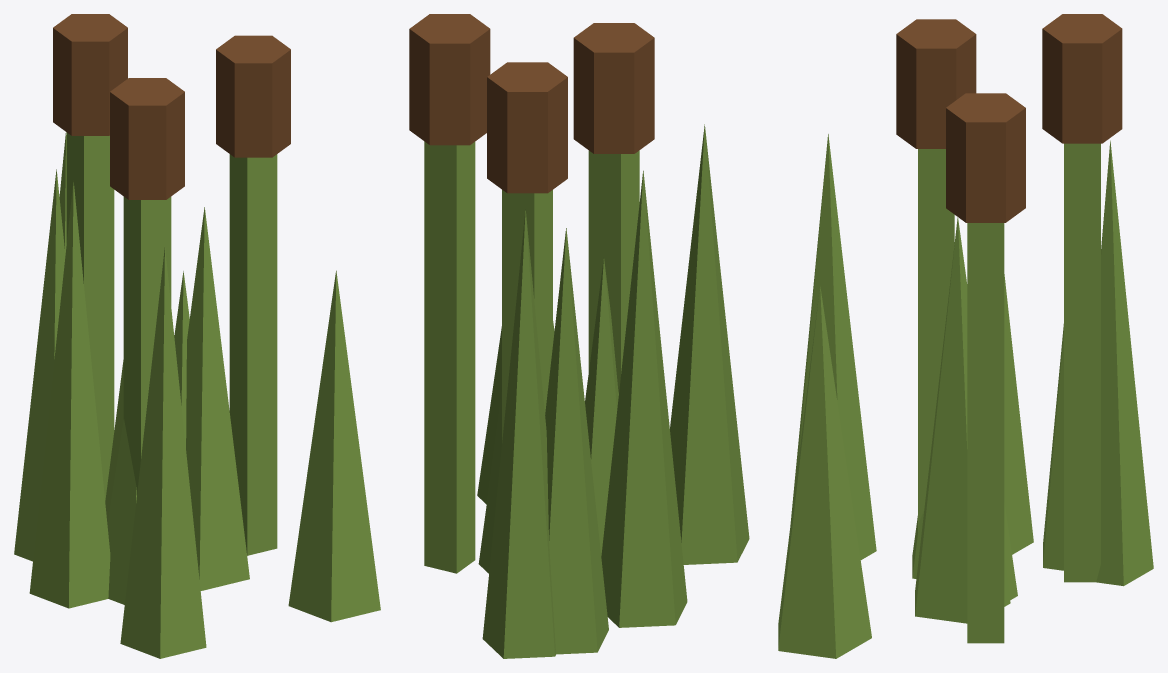
The model's file is reeds.glb.
3 views of the same model, side by side, from view 1: azimuth 30°, elevation 25°; view 2: azimuth 150°, elevation 25°; view 3: azimuth 270°, elevation 25° (orthographic). The views are drawn at different scales.
Visible parts, largest first — view 1: reed, reed_head; view 2: reed, reed_head; view 3: reed, reed_head.
Boxes of the visible parts, x1,y1,x2,y2 form: reed: [14, 132, 380, 658]; reed_head: [53, 14, 290, 199]; reed: [424, 124, 749, 658]; reed_head: [409, 14, 654, 193]; reed: [778, 134, 1153, 658]; reed_head: [896, 14, 1122, 222].
Size of the model in its own units: 0.5225 by 0.979 by 0.6105.
